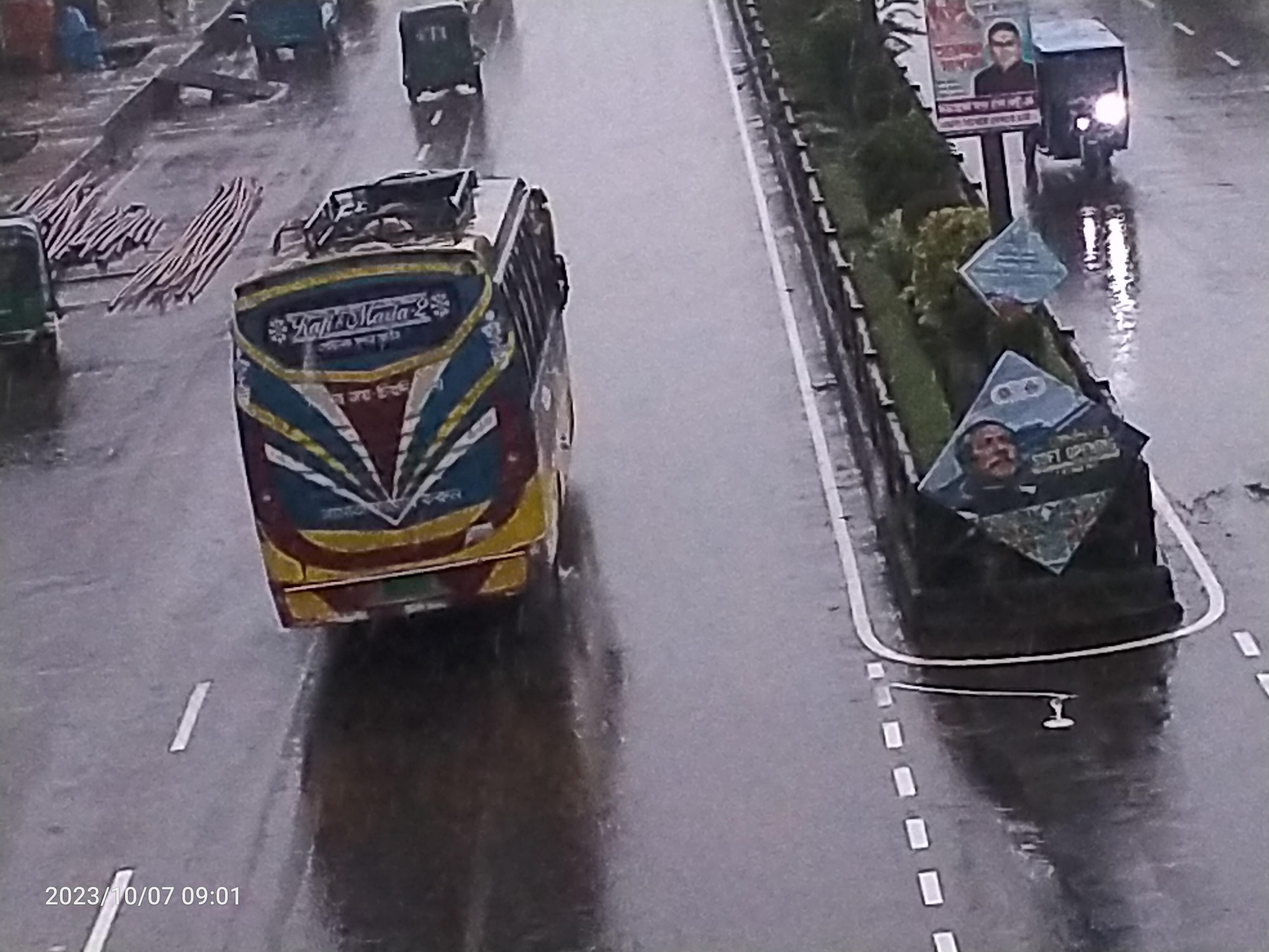Bus: (198, 152, 595, 677)
Car: (991, 0, 1153, 220)
Truck: (240, 0, 337, 99)
